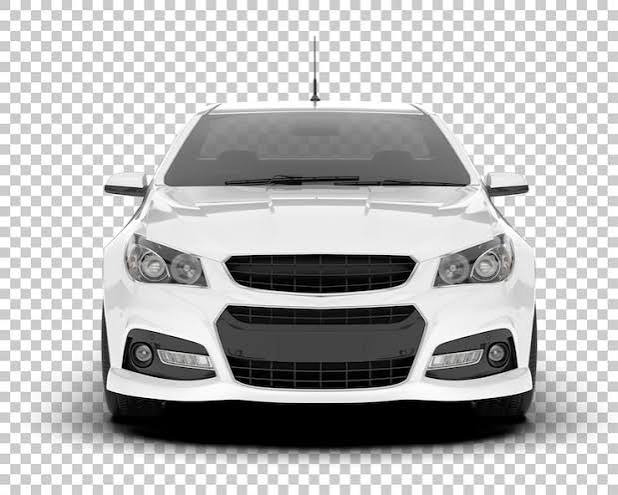car: (88, 107, 556, 433)
